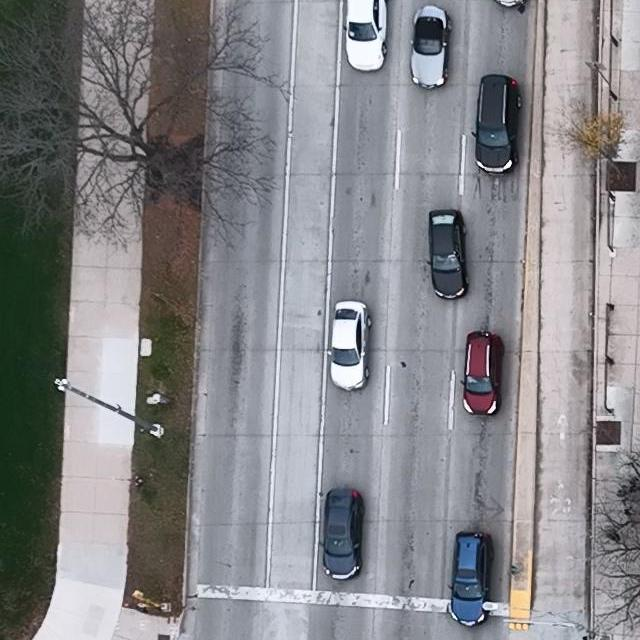car: (472, 74, 522, 176), (423, 208, 469, 300), (327, 299, 373, 391), (319, 489, 365, 581), (448, 531, 492, 627), (460, 331, 506, 417), (408, 5, 451, 90), (342, 0, 387, 71)
